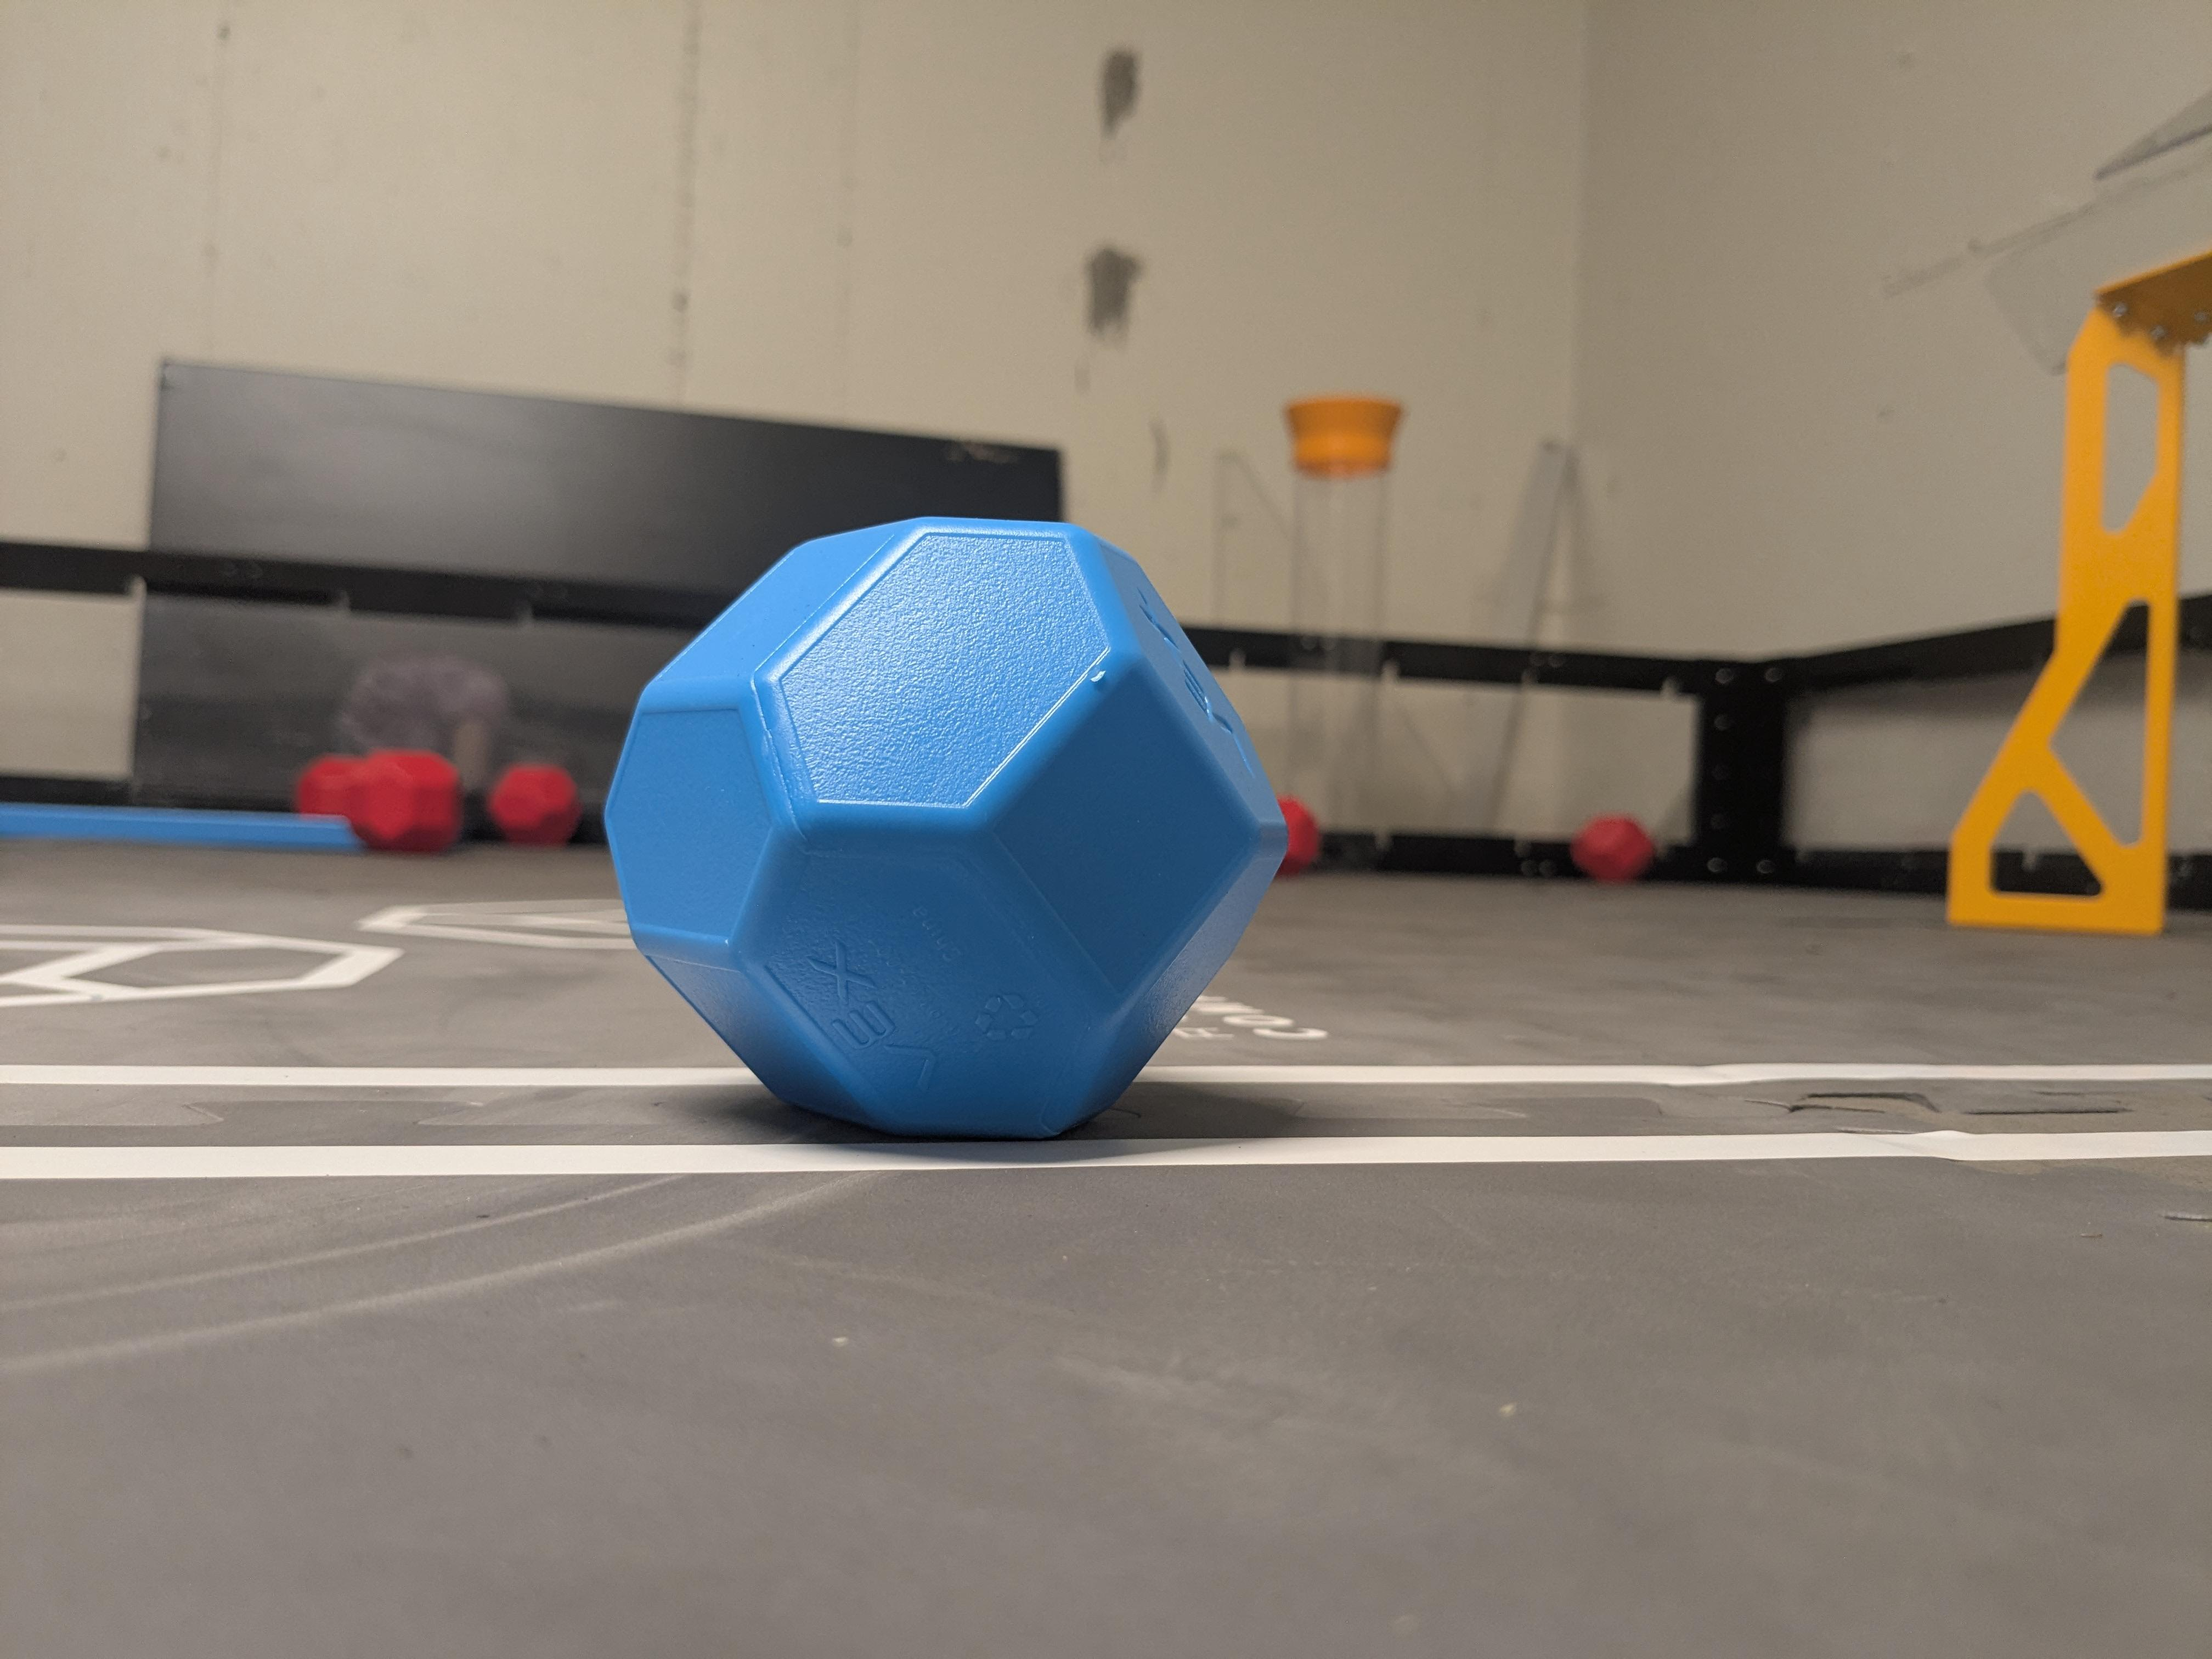Vex-Pieces-BLUE: (629, 519, 1296, 1141)
